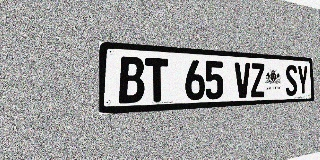5: (205, 61, 223, 100)
6: (185, 60, 205, 101)
B: (119, 56, 145, 104)
S: (285, 65, 297, 96)
T: (145, 58, 169, 102)
V: (235, 62, 251, 98)
Y: (297, 65, 309, 95)
Z: (250, 63, 265, 98)
